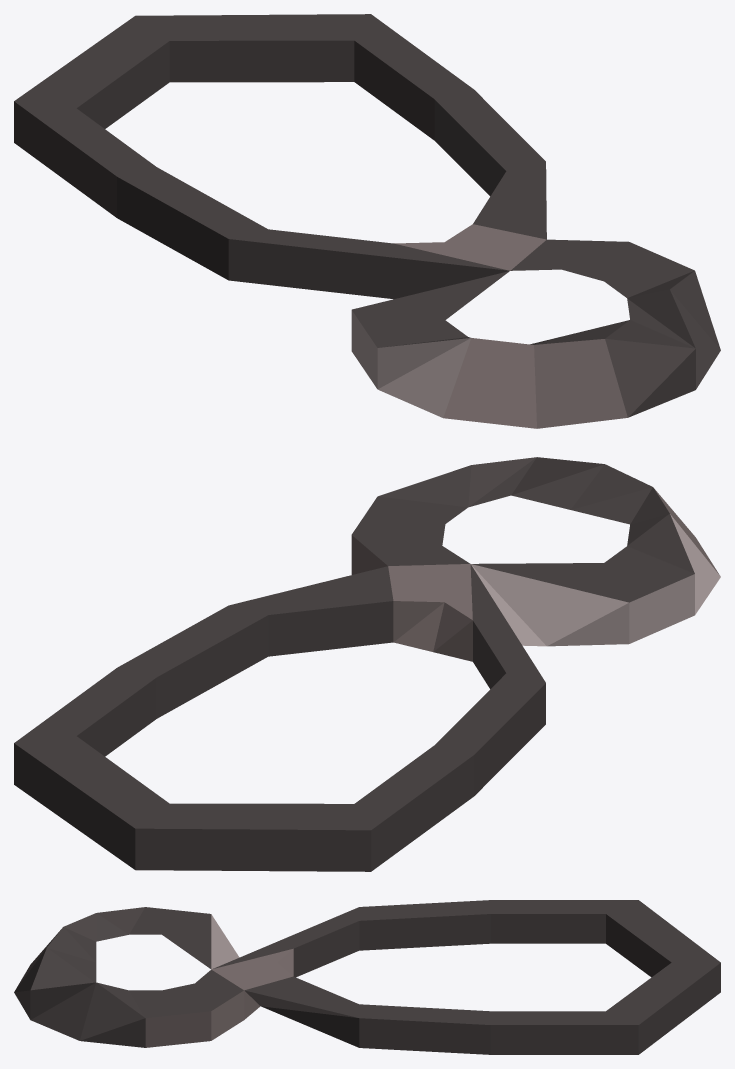
Rendered from drakan-s-medallion.gltf.
3 views of the same model, one above another, from view 1: azimuth 30°, elevation 25°; view 2: azimuth 150°, elevation 25°; view 3: azimuth 270°, elevation 25° (orthographic). The views are drawn at different scales.
Size of the model in its own units: 18 by 3 by 43.
Materials: 1 (1 with a texture image).
